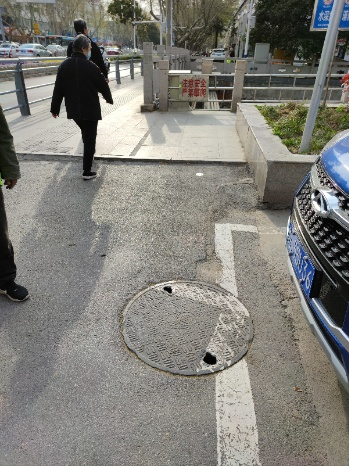good: (118, 280, 256, 377)
